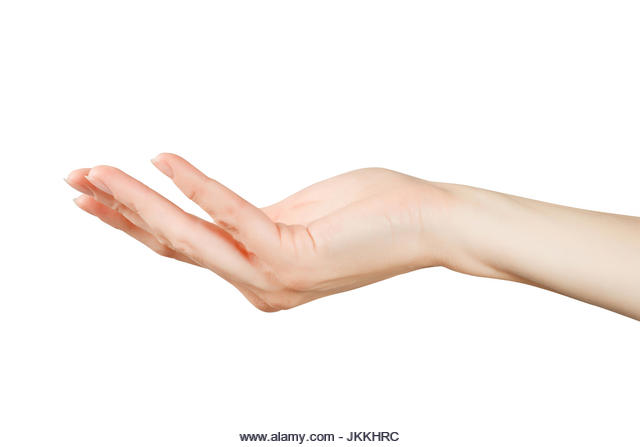hand: (39, 112, 455, 355)
